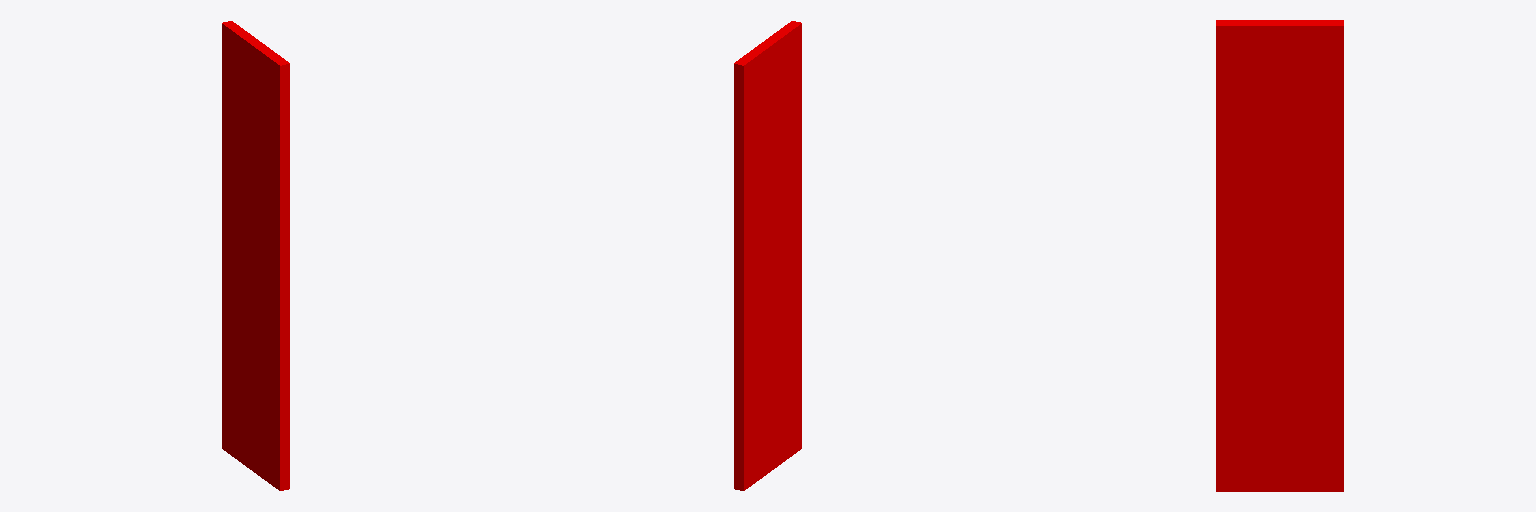
The robot description file, URDF, robot "goal":
<?xml version="0.0" ?>
<robot name="goal">
  <link name="baseLink">
    <contact>
      <lateral_friction value="1.0"/>
      <rolling_friction value="0.0"/>
      <contact_cfm value="10000.0"/>
      <contact_erp value="1000.0"/>
    </contact>
    <inertial>
      <origin rpy="0 0 0" xyz="0 0 0"/>
       <mass value="100.0"/>
       <inertia ixx="1000" ixy="1000" ixz="1000" iyy="1000" iyz="1000" izz="1000"/>
    </inertial>
    <visual>
      <origin rpy="0 0 0" xyz="0 0 0"/>
      <geometry>
        <box size="0.05 0.5 2"/>
      </geometry>
       <material name="red">
        <color rgba="1 0 0 1"/>
      </material> 
    </visual>
    <collision>
      <origin rpy="0 0 0" xyz="0 0 0"/>
      <geometry>
	 	    <box size="0.05 0.5 2"/>
      </geometry>
    </collision>
  </link>
</robot>

--- Render facts (derived) ---
3 views of the same robot in one strip: view 1: azimuth 30°, elevation 25°; view 2: azimuth 150°, elevation 25°; view 3: azimuth 270°, elevation 25° (orthographic).
Model goal with 1 links and 0 joints (none), rooted at baseLink, posed all joints at 0.
Links seen in each view (by area): view 1: baseLink; view 2: baseLink; view 3: baseLink.
Boxes of the visible links, x1,y1,x2,y2 form: baseLink: (222,21,289,490); baseLink: (734,21,801,490); baseLink: (1216,20,1343,491).
Size in the robot's own frame: 0.05 by 0.5 by 2 metres.
Geometry: primitives only (box / cylinder / sphere), no mesh files.